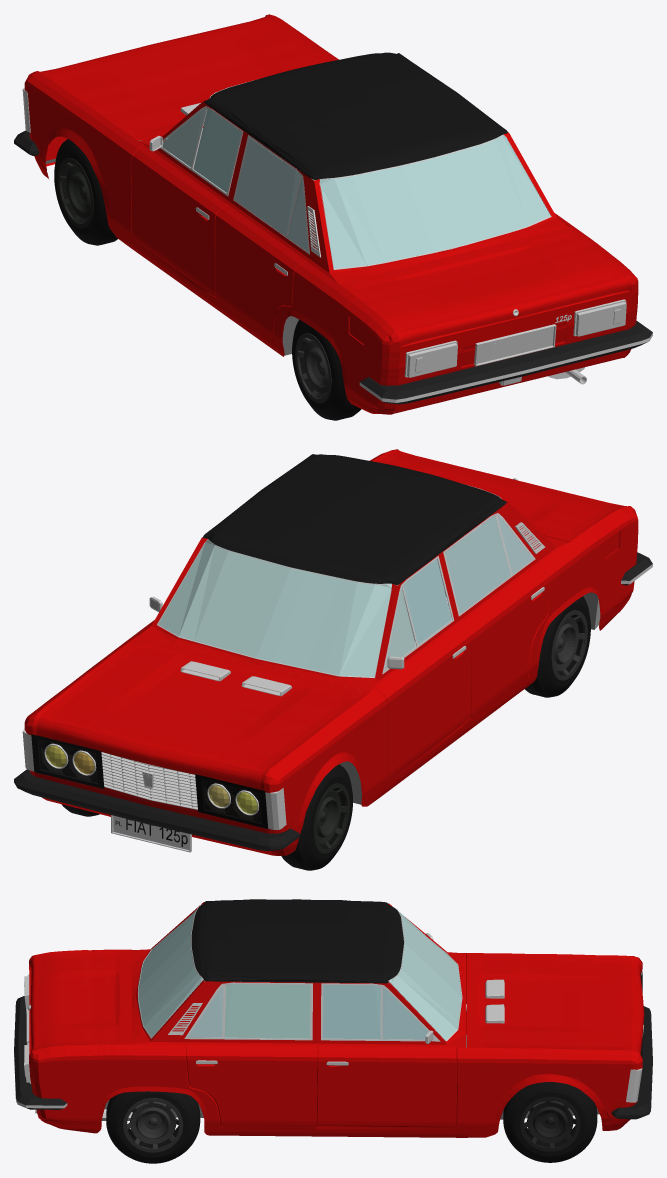
The model's file is kart2.dae.
The picture shows the model from 3 angles, top to bottom: view 1: azimuth 30°, elevation 25°; view 2: azimuth 150°, elevation 25°; view 3: azimuth 270°, elevation 25°; orthographic projection. The views are drawn at different scales.
Parts seen in each view (by area): view 1: mesh01; view 2: mesh01; view 3: mesh01.
Part boxes in pixels (x1,y1,x2,y2): mesh01: [14, 14, 652, 420]; mesh01: [14, 449, 652, 870]; mesh01: [14, 899, 652, 1163].
Size of the model in its own units: 1.23 by 3.02 by 0.9474.
